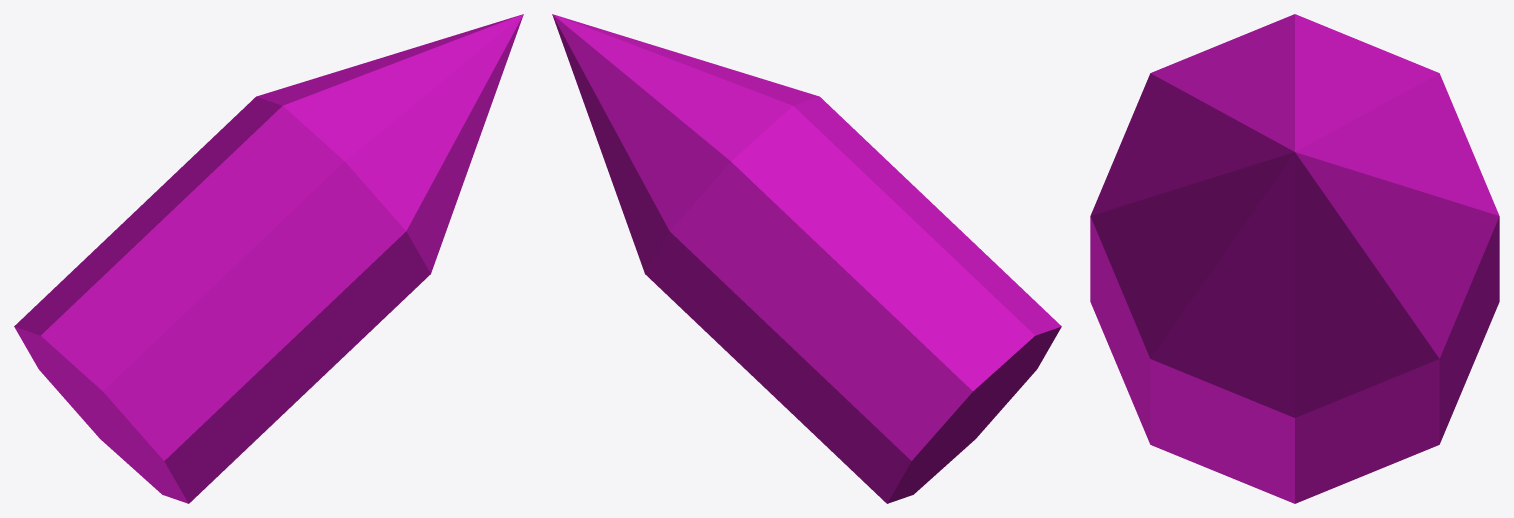
The model's file is bullet_pickup.obj.
The picture shows the model from 3 angles, left to right: view 1: azimuth 30°, elevation 25°; view 2: azimuth 150°, elevation 25°; view 3: azimuth 270°, elevation 25°; orthographic projection. The views are drawn at different scales.
Parts seen in each view (by area): view 1: Cone.001; view 2: Cone.001; view 3: Cone.001.
Boxes of the visible parts, x1=… form: Cone.001: x1=14, y1=14, x2=523, y2=503; Cone.001: x1=552, y1=14, x2=1061, y2=503; Cone.001: x1=1090, y1=14, x2=1499, y2=503.
Bounding box in the file's own units: 4.44 × 3.45 × 2.
